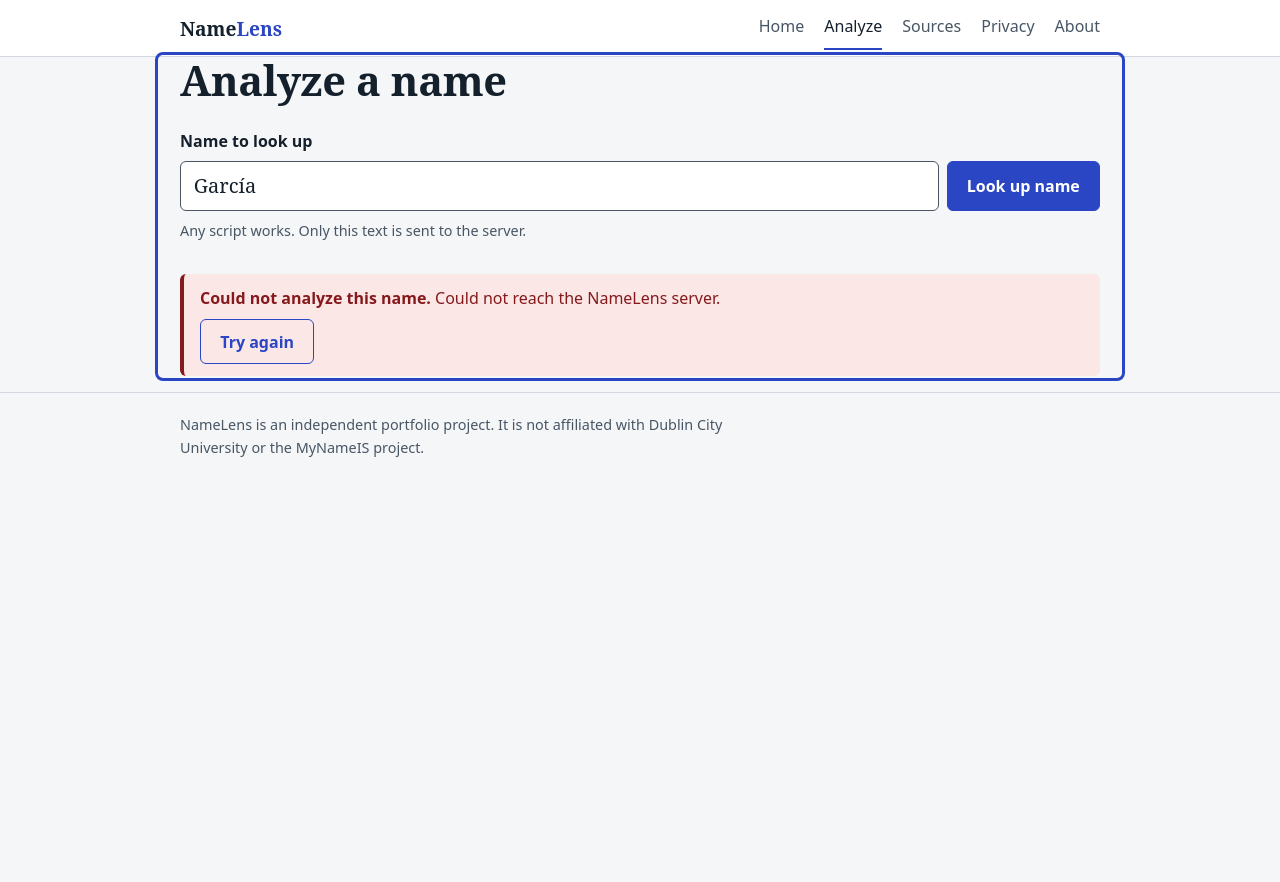
Analyze page › shows an error with retry for network failures
expect the message shows "Could not reach": met, box x1=435 y1=287 x2=720 y2=309
Click the button "Try again".
click(257, 342)  # box x1=200 y1=319 x2=314 y2=364
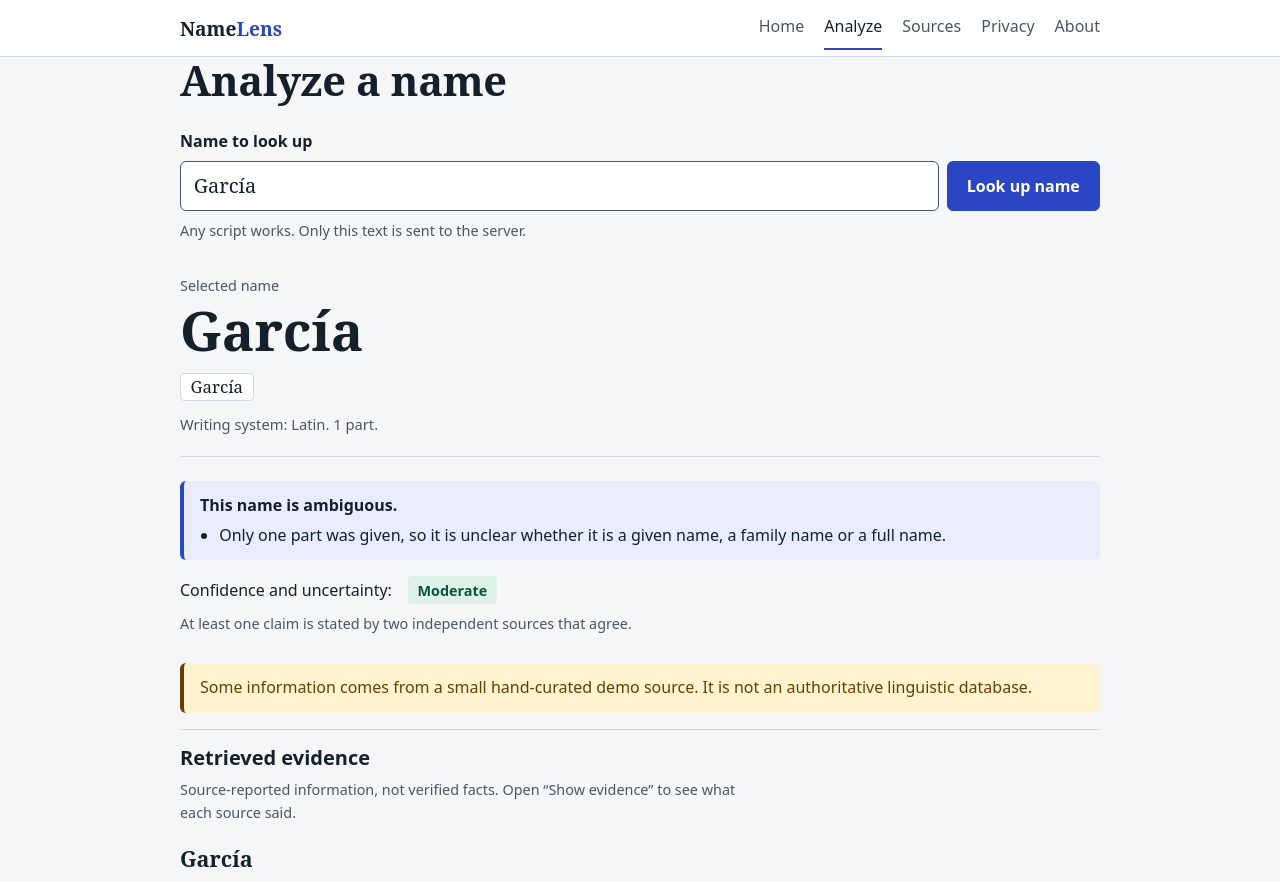
expect the heading "García" below "Selected name" is shown: met, box x1=180 y1=293 x2=363 y2=367
